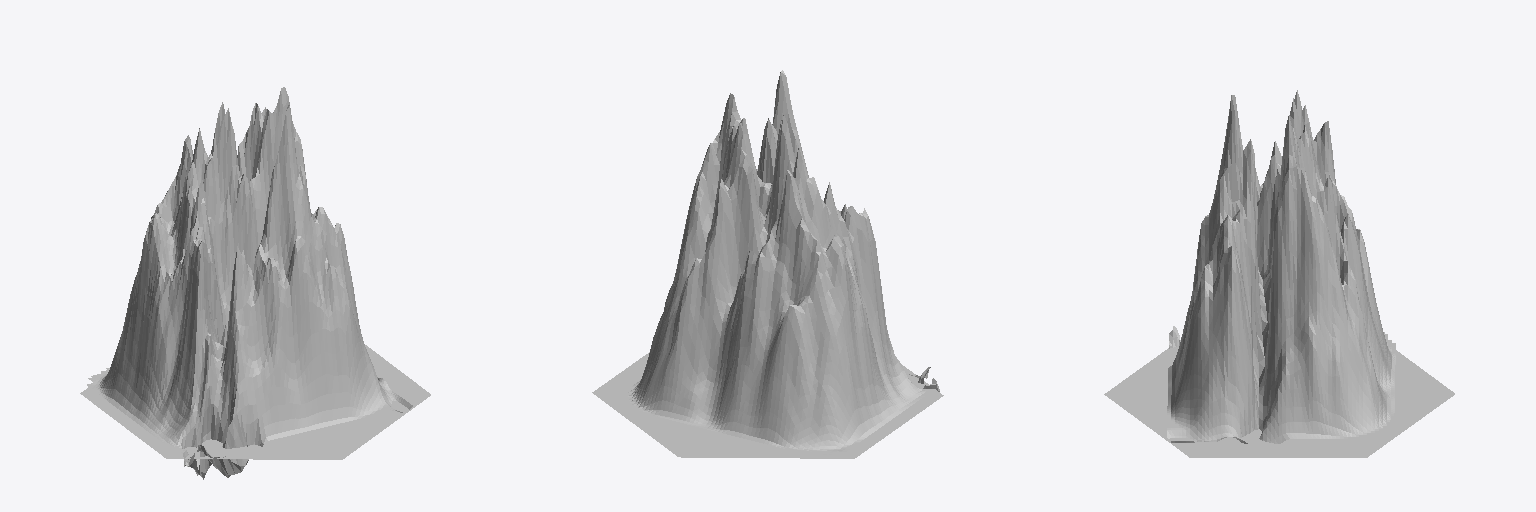
The model's file is mount.hex.obj.
3 views of the same model, side by side, from view 1: azimuth 30°, elevation 25°; view 2: azimuth 150°, elevation 25°; view 3: azimuth 270°, elevation 25° (orthographic).
Visible parts, largest first — view 1: Landscape, Hexagon; view 2: Landscape, Hexagon; view 3: Landscape, Hexagon.
Boxes of the visible parts, box(x1,y1,x2,y2) form: Landscape: box(87, 87, 412, 479); Hexagon: box(80, 345, 430, 459); Landscape: box(611, 70, 939, 454); Hexagon: box(592, 352, 943, 458); Landscape: box(1167, 90, 1395, 443); Hexagon: box(1104, 340, 1454, 457).
Size of the model in its own units: 2.61 by 3.12 by 3.